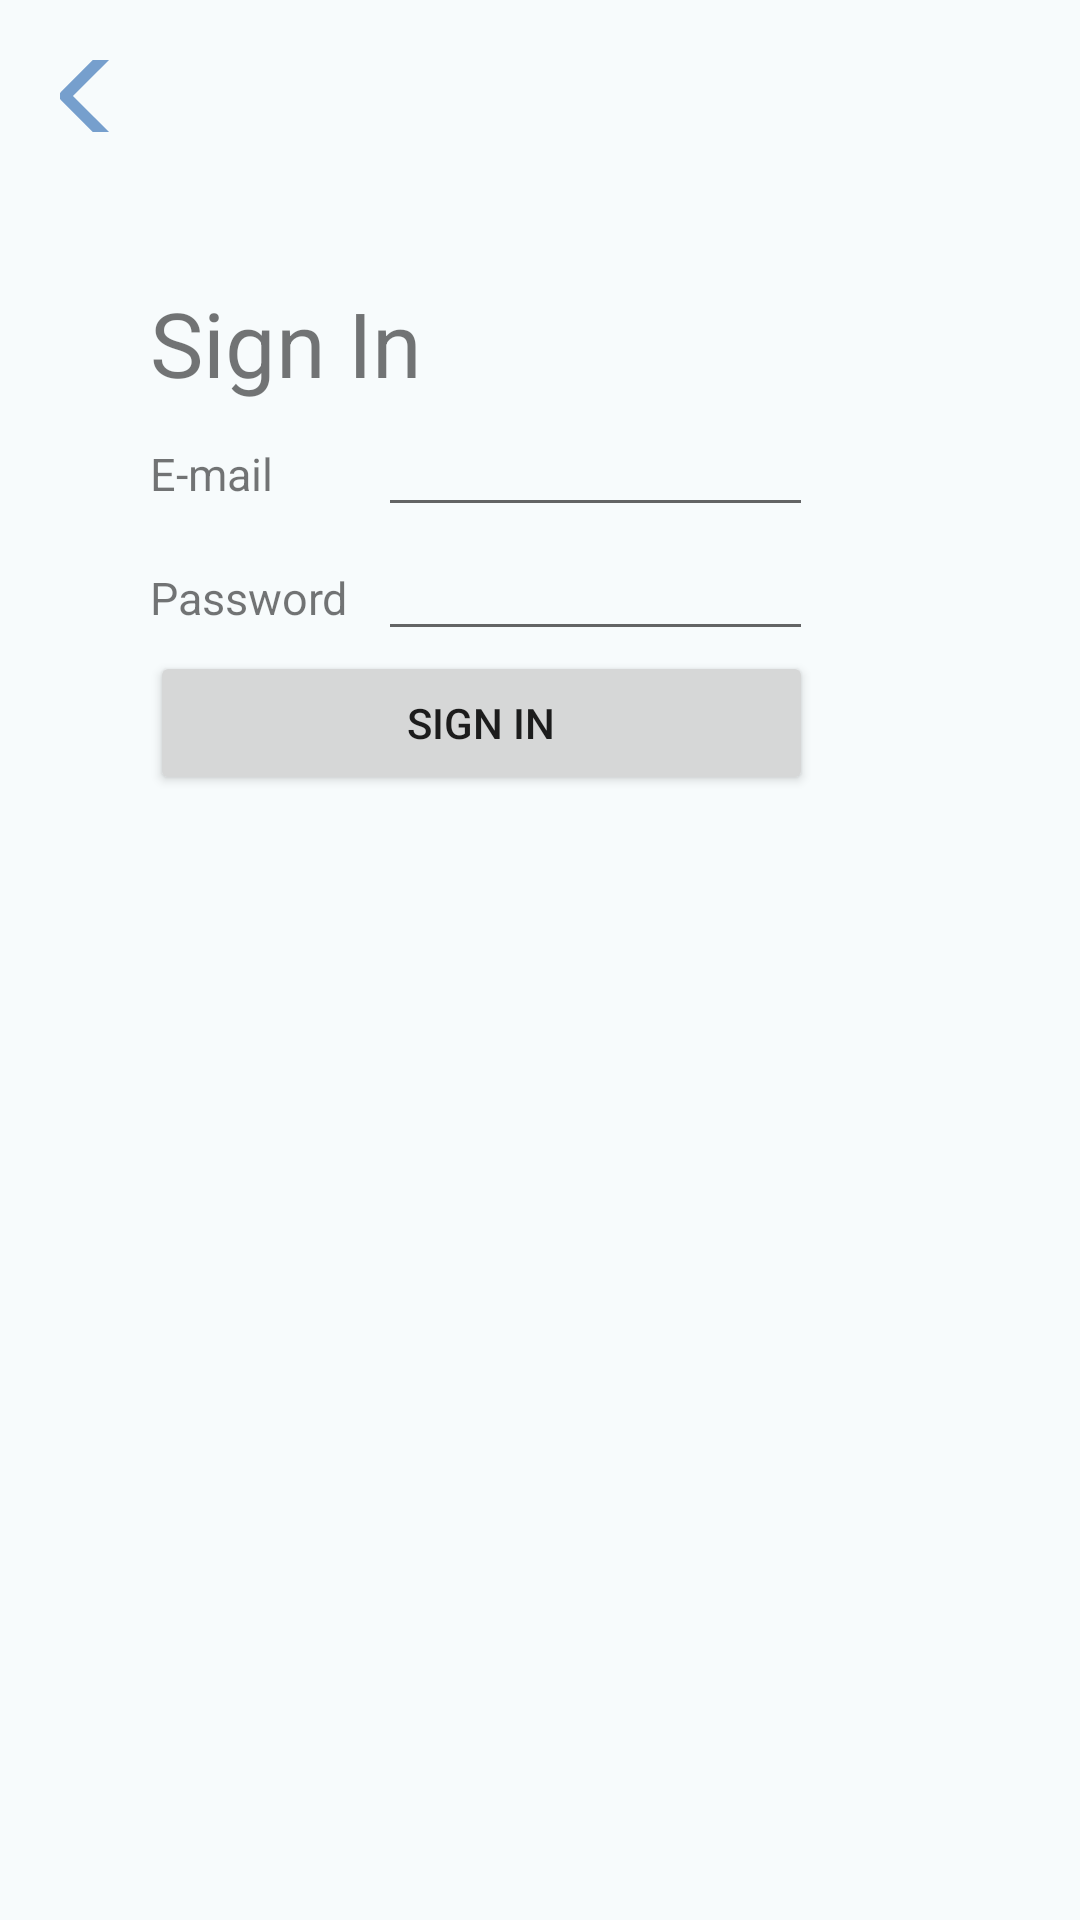

Icon bounding boxes for this 1080 x 1920 phone screenshot, format (x1, y1, x2, y2):
back: (60, 60, 109, 132)
